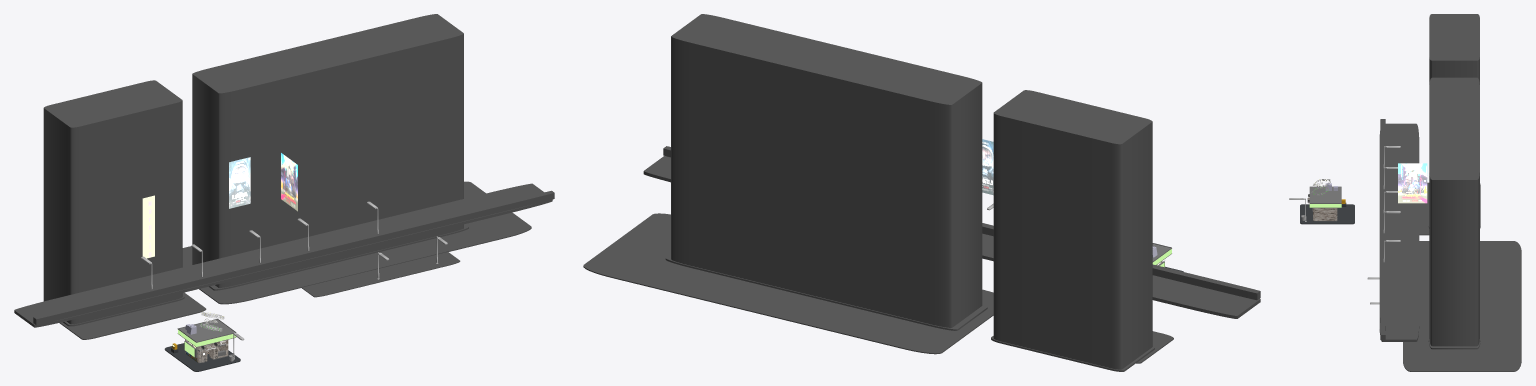
Rendered from kiosco.glb.
3 views of the same model, side by side, from view 1: azimuth 30°, elevation 25°; view 2: azimuth 150°, elevation 25°; view 3: azimuth 270°, elevation 25° (orthographic). The views are drawn at different scales.
Parts seen in each view (by area): view 1: edificio 2, edificio 1, autopista, piso fondo.001, autopista.001, piso fondo, piso fondo.004, cuerpo quiosco, banner eternauta, banner edgerunners, banner marolio, piso; view 2: edificio 2, edificio 1, piso fondo.001, autopista, autopista.001, banner eternauta; view 3: edificio 2, piso fondo.001, autopista, edificio 1, autopista.001, banner edgerunners, cuerpo quiosco, piso, piso fondo.
Boxes of the visible parts, x1=… form: edificio 2: x1=192, y1=14, x2=468, y2=290; edificio 1: x1=43, y1=80, x2=184, y2=326; autopista: x1=14, y1=183, x2=552, y2=327; piso fondo.001: x1=182, y1=181, x2=531, y2=304; autopista.001: x1=33, y1=190, x2=554, y2=325; piso fondo: x1=59, y1=292, x2=206, y2=339; piso fondo.004: x1=302, y1=252, x2=460, y2=297; cuerpo quiosco: x1=177, y1=318, x2=236, y2=363; banner eternauta: x1=229, y1=157, x2=250, y2=208; banner edgerunners: x1=281, y1=153, x2=297, y2=211; banner marolio: x1=142, y1=195, x2=154, y2=258; piso: x1=166, y1=343, x2=239, y2=370; edificio 2: x1=665, y1=14, x2=987, y2=330; edificio 1: x1=991, y1=90, x2=1154, y2=371; piso fondo.001: x1=583, y1=213, x2=993, y2=354; autopista: x1=643, y1=156, x2=1260, y2=318; autopista.001: x1=663, y1=146, x2=1260, y2=300; banner eternauta: x1=982, y1=139, x2=993, y2=195; edificio 2: x1=1428, y1=77, x2=1480, y2=349; piso fondo.001: x1=1403, y1=241, x2=1521, y2=371; autopista: x1=1379, y1=123, x2=1419, y2=341; edificio 1: x1=1428, y1=14, x2=1480, y2=228; autopista.001: x1=1380, y1=119, x2=1385, y2=340; banner edgerunners: x1=1398, y1=163, x2=1427, y2=203; cuerpo quiosco: x1=1307, y1=183, x2=1341, y2=221; piso: x1=1300, y1=204, x2=1354, y2=223; piso fondo: x1=1419, y1=182, x2=1429, y2=235.
Bounding box in the file's own units: 162 × 61.1 × 73.56.
Materials: 35 (14 with a texture image).
